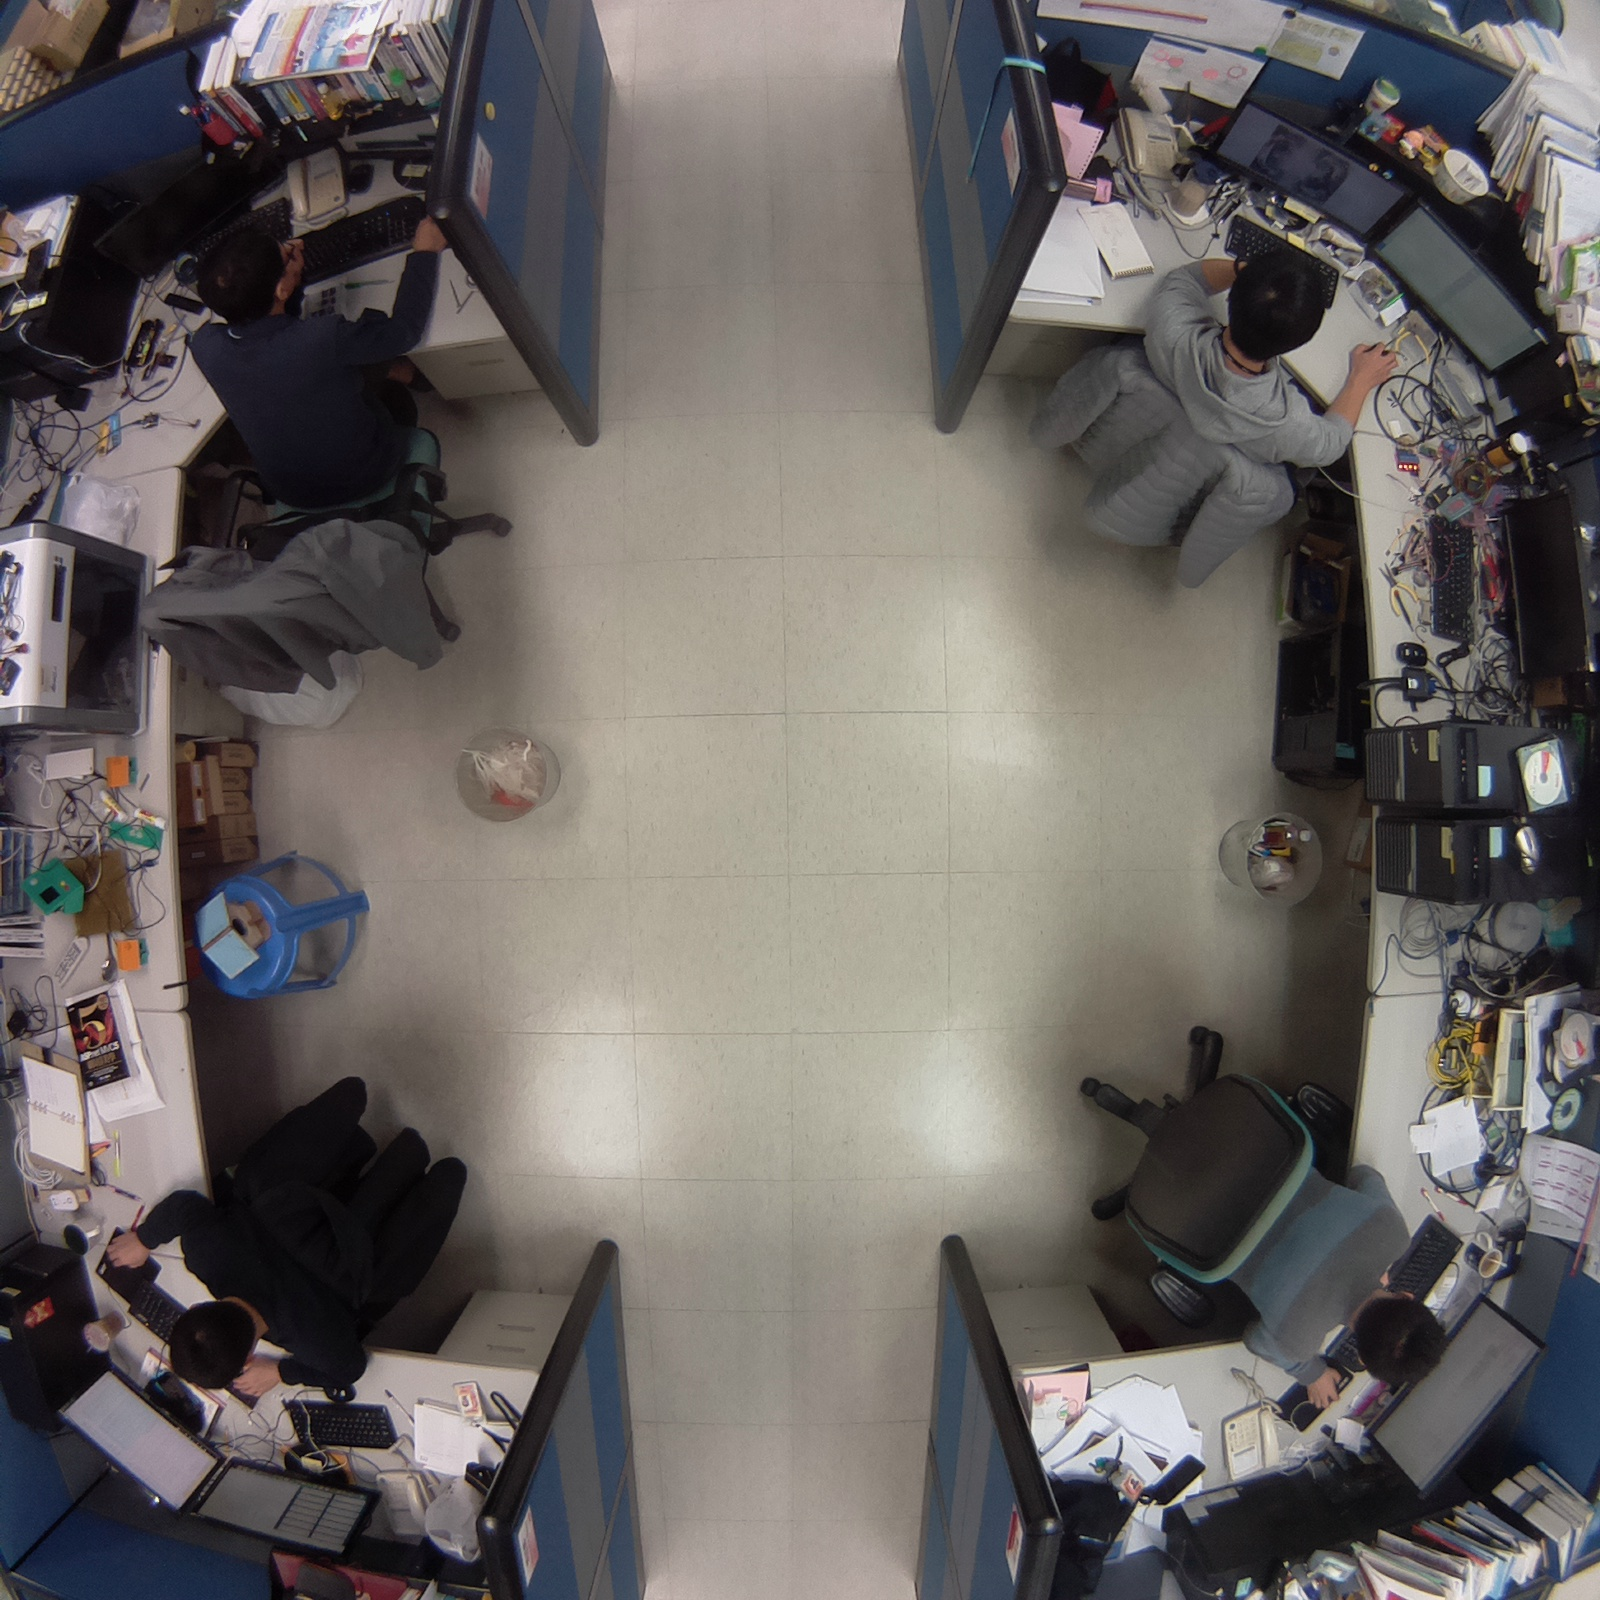head: (191, 210, 315, 329), (1217, 238, 1332, 363), (1344, 1287, 1451, 1395), (159, 1291, 270, 1395)
sitting: (117, 187, 529, 714), (1055, 1001, 1474, 1416), (1009, 220, 1401, 596), (99, 1060, 481, 1411)
